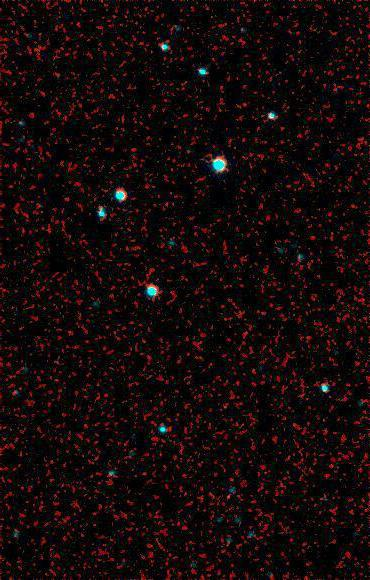star: (212, 487, 242, 517)
